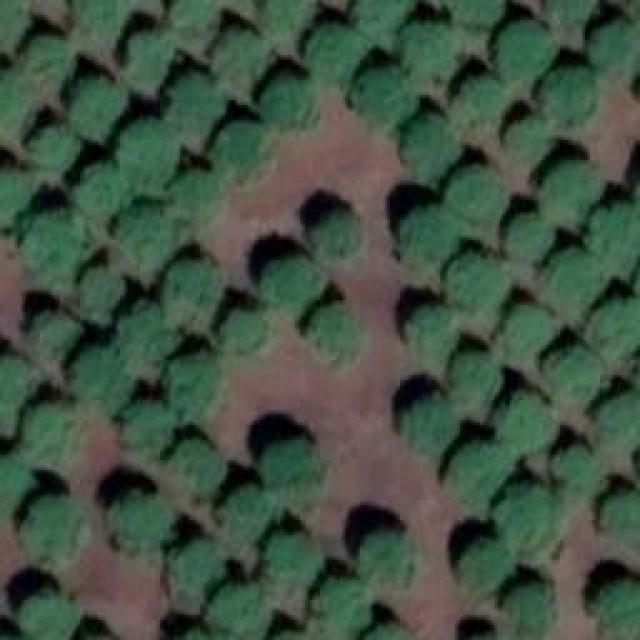Tree: (13, 207, 83, 275), (355, 530, 423, 598), (535, 158, 600, 228), (495, 488, 558, 558), (110, 200, 183, 258), (258, 433, 323, 498), (23, 493, 86, 558), (105, 483, 173, 543), (305, 20, 368, 83), (498, 390, 561, 453), (22, 402, 80, 470), (165, 433, 225, 496), (395, 200, 455, 263), (493, 20, 553, 80), (587, 202, 640, 269), (447, 165, 505, 225), (357, 65, 415, 125), (405, 113, 460, 176), (400, 23, 463, 78), (447, 252, 505, 310), (540, 345, 598, 403), (500, 577, 558, 635), (262, 530, 320, 588), (260, 68, 313, 131), (538, 68, 601, 121), (212, 123, 270, 178), (168, 70, 221, 130), (158, 355, 218, 408), (0, 355, 40, 433), (65, 75, 123, 128), (585, 20, 640, 75), (540, 250, 595, 305), (170, 540, 223, 595), (263, 255, 318, 308), (313, 580, 368, 633), (592, 295, 640, 355), (592, 580, 640, 640), (213, 580, 266, 633), (218, 485, 271, 538), (450, 440, 503, 493), (405, 393, 455, 448), (75, 165, 128, 215), (120, 120, 170, 173), (170, 160, 220, 213), (450, 350, 500, 403), (460, 537, 515, 585), (120, 303, 168, 356), (167, 255, 215, 308), (310, 303, 358, 356), (455, 75, 508, 123), (123, 30, 173, 80), (73, 348, 123, 398), (595, 390, 640, 445), (505, 300, 553, 350), (505, 213, 553, 263), (592, 490, 640, 540), (20, 593, 73, 638), (128, 400, 171, 453), (25, 128, 75, 173), (408, 305, 453, 355), (220, 30, 265, 80), (25, 35, 70, 83), (548, 445, 598, 488), (168, 0, 221, 40), (30, 310, 78, 353), (78, 268, 123, 311), (0, 168, 35, 223), (0, 453, 30, 516), (503, 118, 548, 158), (73, 0, 123, 35), (350, 0, 408, 30), (223, 310, 266, 350), (313, 212, 358, 250), (0, 68, 28, 128), (442, 0, 500, 28), (540, 0, 595, 28), (262, 0, 307, 32), (0, 0, 30, 40), (358, 625, 418, 640)
